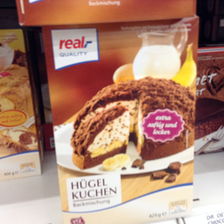cake: (41, 18, 201, 224)
